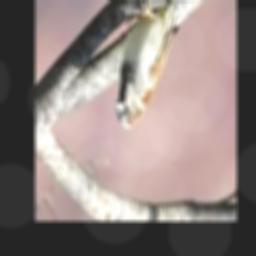Sparrow: (115, 0, 189, 129)
